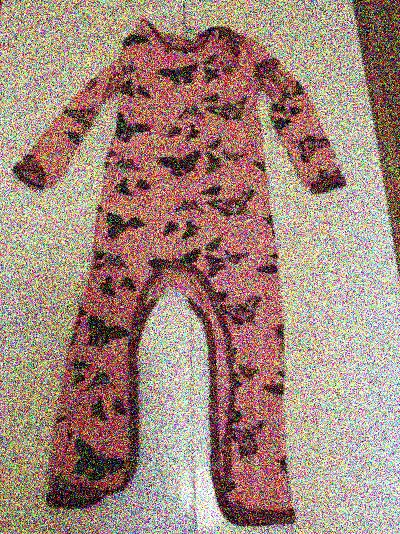Body: (20, 5, 348, 519)
